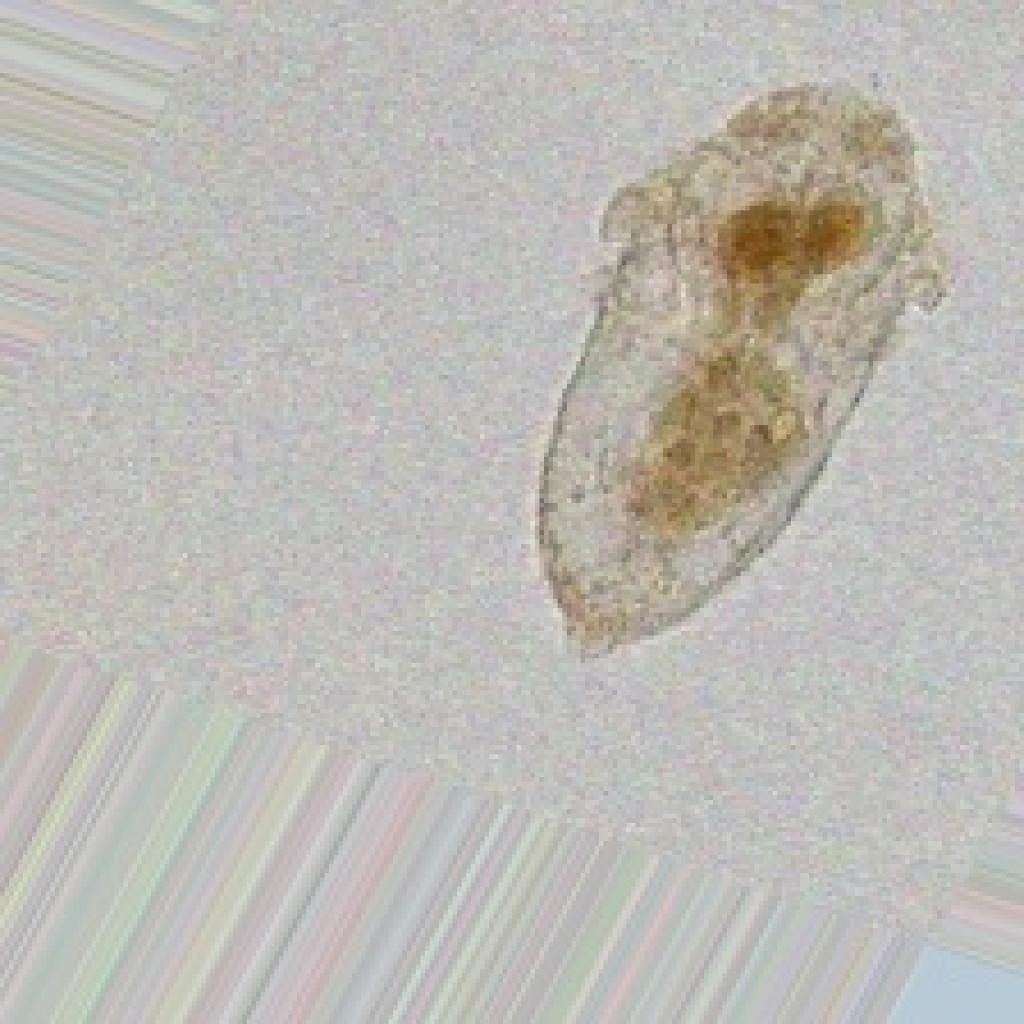Rotifer: (530, 73, 951, 658)
